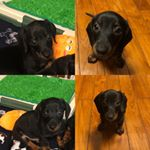puppy: (82, 6, 135, 70), (10, 95, 73, 148), (13, 16, 64, 70), (90, 86, 131, 144)
